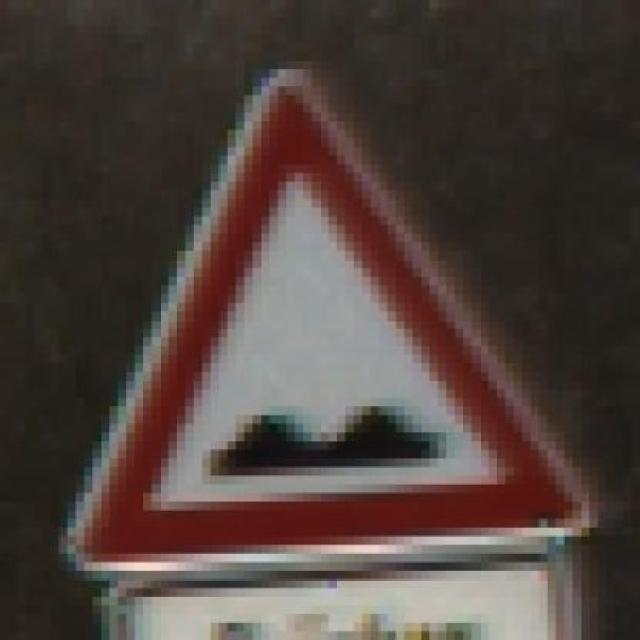Uneven Road: (34, 72, 592, 566)
